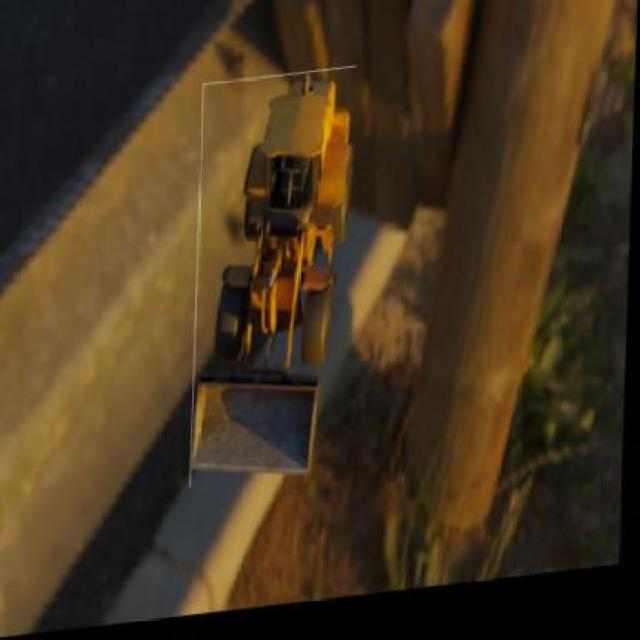buldozerpayloadergrader: (193, 71, 355, 478)
